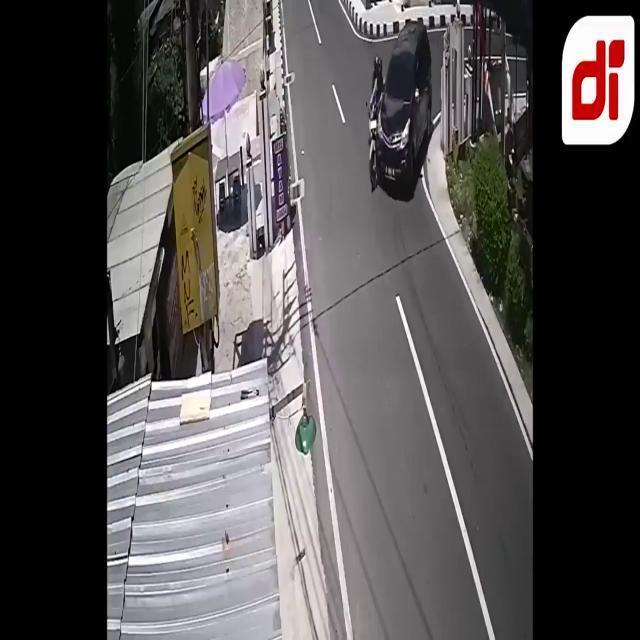accident: (365, 30, 435, 186)
